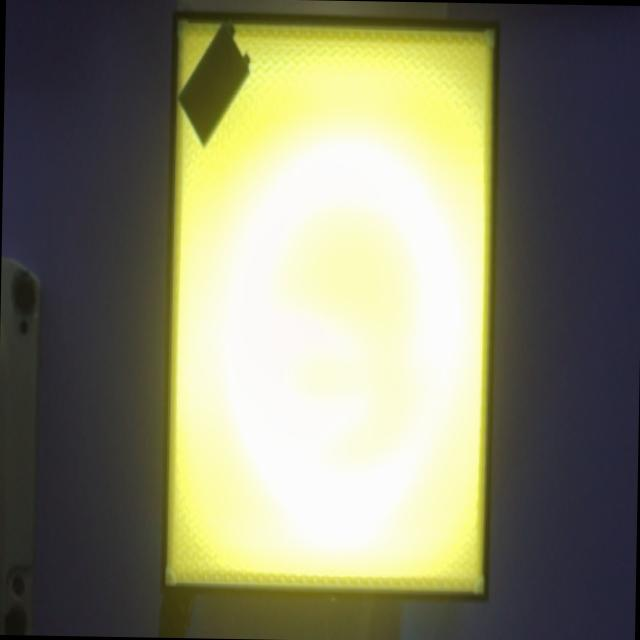bateria: (175, 19, 250, 143)
mesa: (161, 11, 500, 602)
